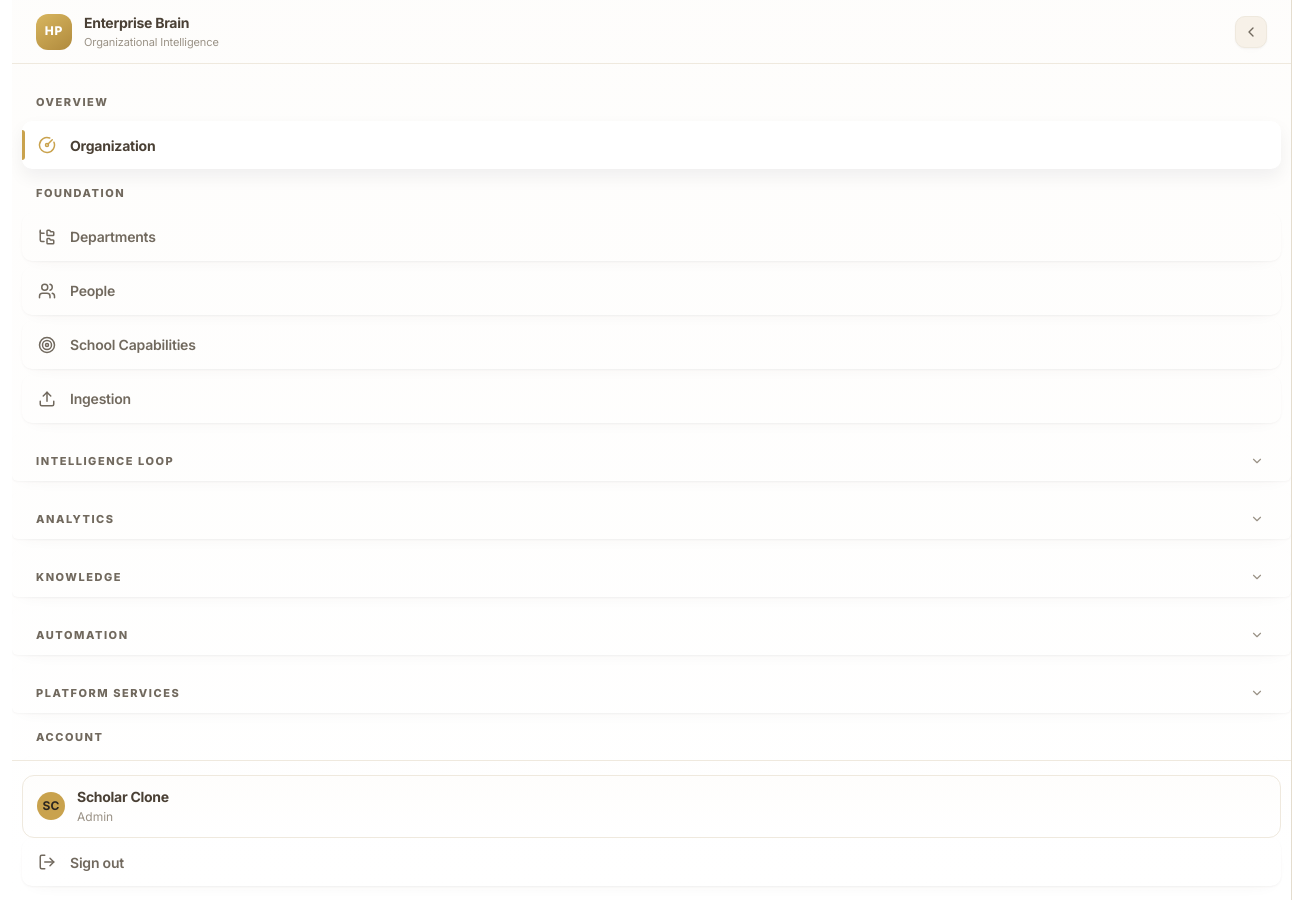
Test: sidebar › displays the exact five Intelligence Loop screen names in order
Click the button "Intelligence Loop".
click(105, 461)  # box left=12, top=435, right=1291, bottom=481
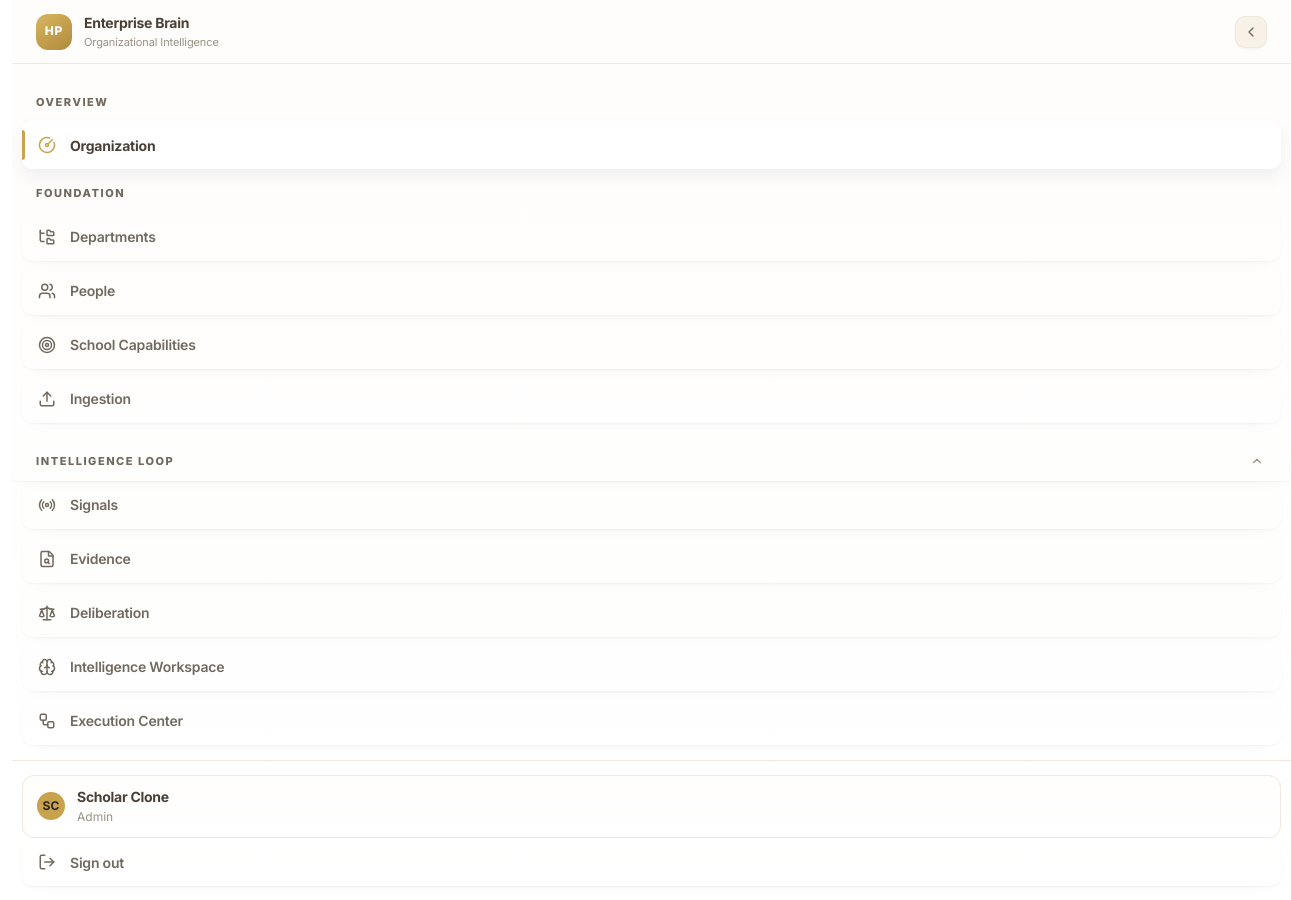
Now the buttons read "Intelligence Loop", "Signals", "Evidence", "Deliberation", "Intelligence Workspace", "Execution Center", in this order, box left=12, top=435, right=1291, bottom=481; left=22, top=481, right=1281, bottom=529; left=22, top=535, right=1281, bottom=583; left=22, top=589, right=1281, bottom=637; left=22, top=643, right=1281, bottom=691; left=22, top=697, right=1281, bottom=745
